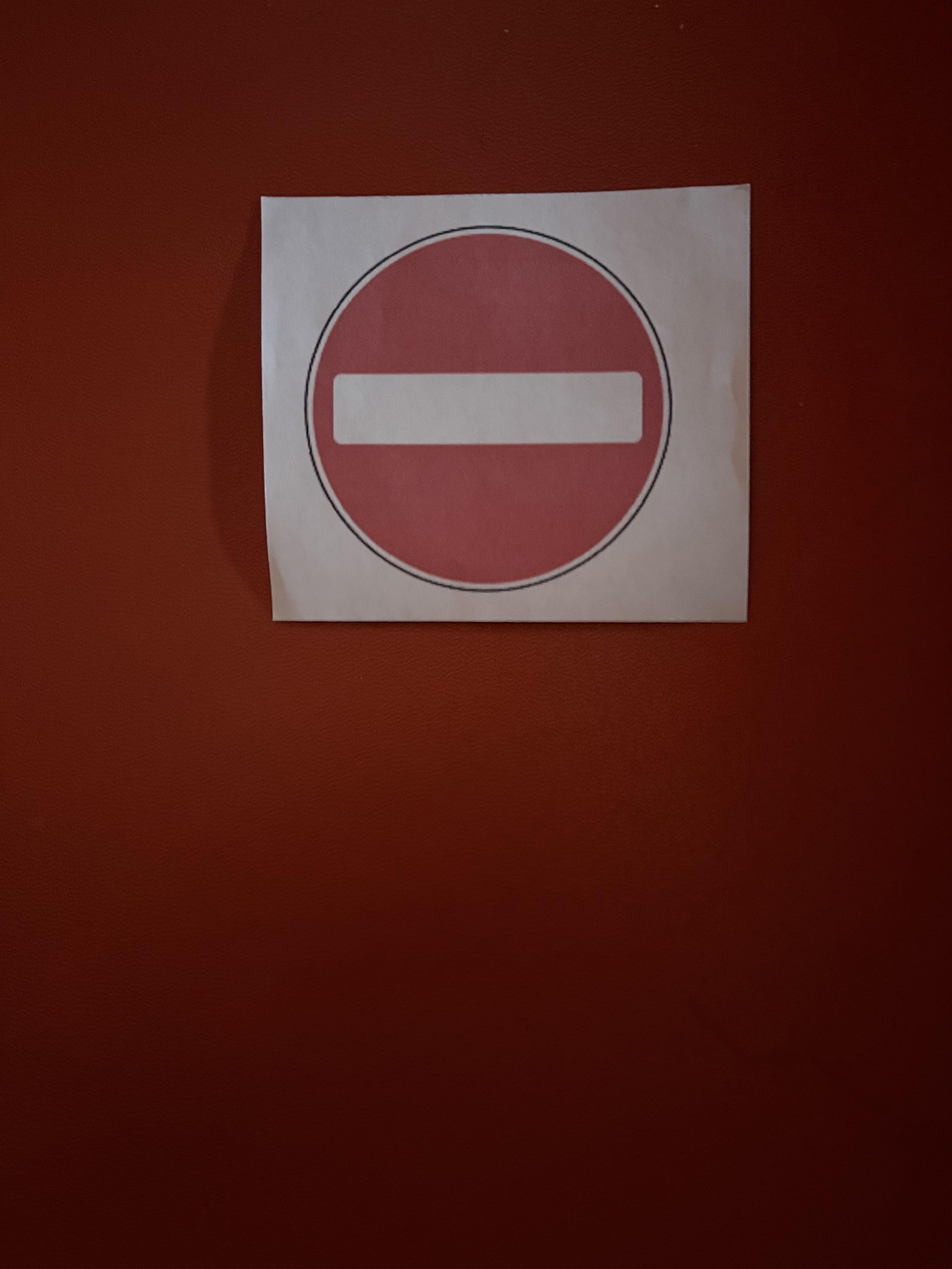No Entry: (262, 198, 752, 626)
